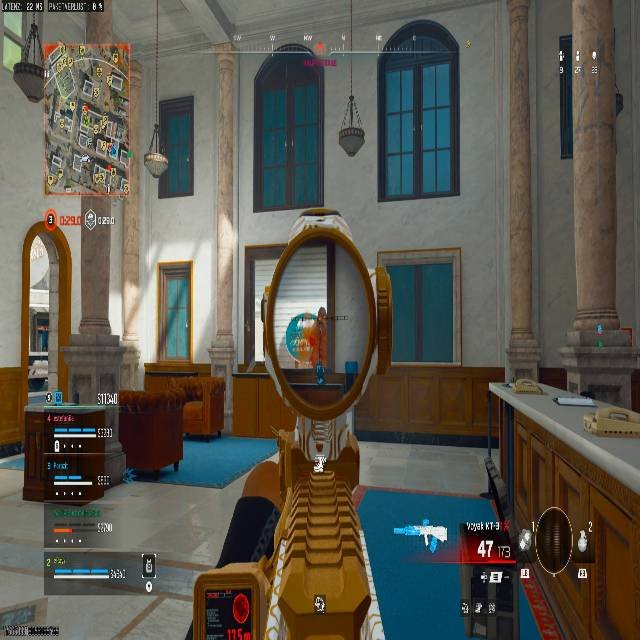head: (318, 307, 326, 316)
player: (286, 309, 324, 362)
